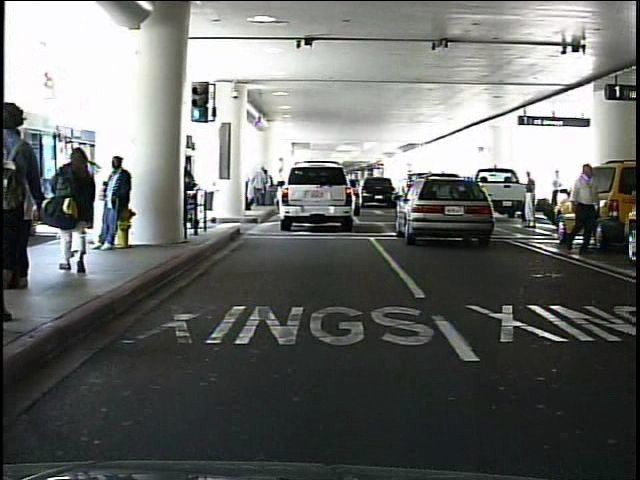person: (49, 139, 100, 274), (96, 152, 136, 254), (567, 159, 602, 258), (520, 170, 540, 230), (554, 169, 564, 211)
